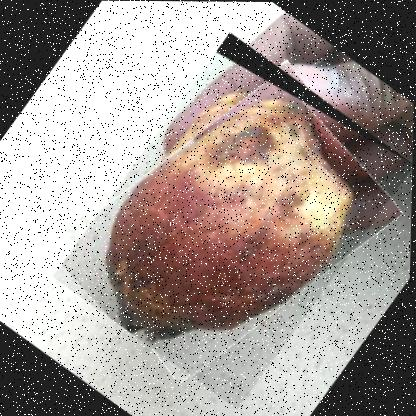guava_rotten: (49, 28, 415, 409)
